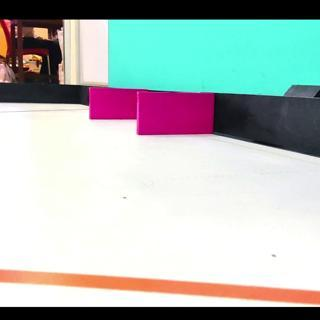xparking: (139, 94, 213, 136), (90, 90, 137, 120)
